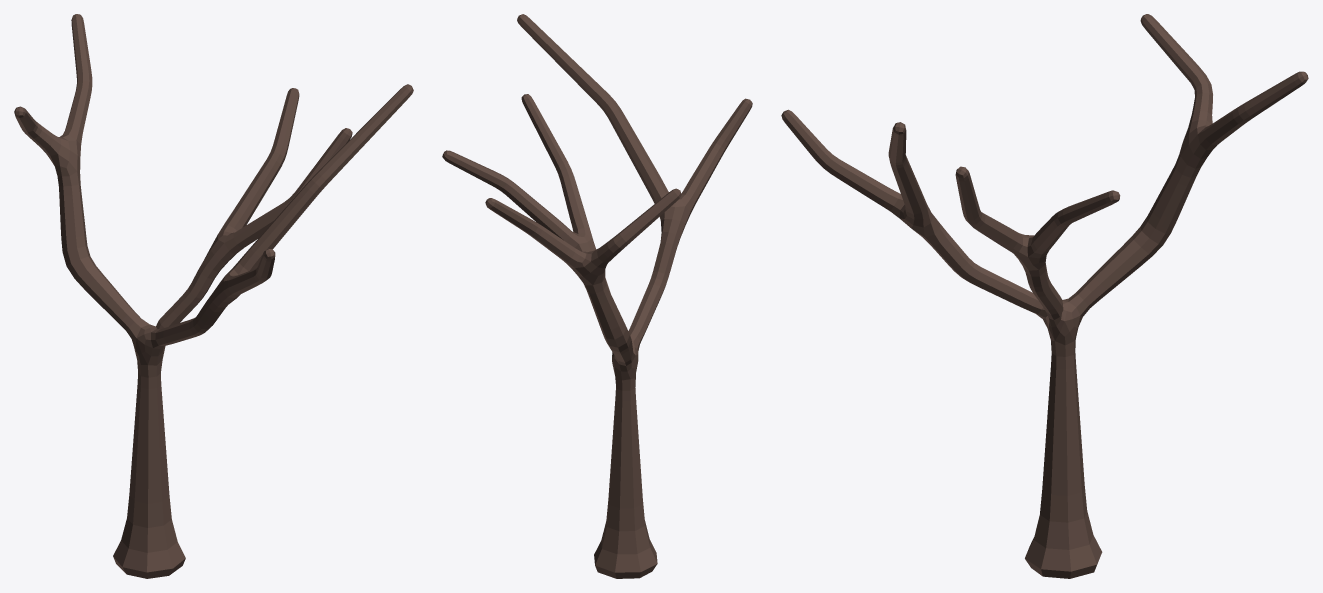
The model's file is Tree Dead.fbx.
3 views of the same model, side by side, from view 1: azimuth 30°, elevation 25°; view 2: azimuth 150°, elevation 25°; view 3: azimuth 270°, elevation 25° (orthographic). The views are drawn at different scales.
Parts seen in each view (by area): view 1: Dead Tree 1.001; view 2: Dead Tree 1.001; view 3: Dead Tree 1.001.
Part boxes in pixels (left/top/right/bottom): Dead Tree 1.001: left=14, top=14, right=413, bottom=578; Dead Tree 1.001: left=442, top=14, right=752, bottom=578; Dead Tree 1.001: left=781, top=14, right=1308, bottom=578.
Bounding box in the file's own units: 2.07 × 3.41 × 2.99.
